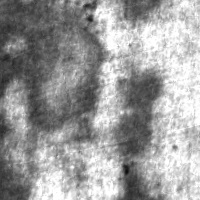patches: (3, 0, 109, 137), (113, 68, 164, 199), (0, 70, 23, 199), (112, 0, 174, 19)
